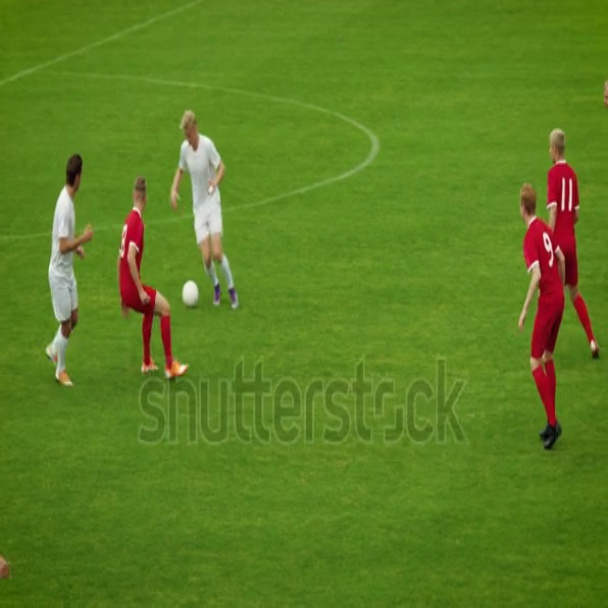ball: (184, 277, 201, 312)
